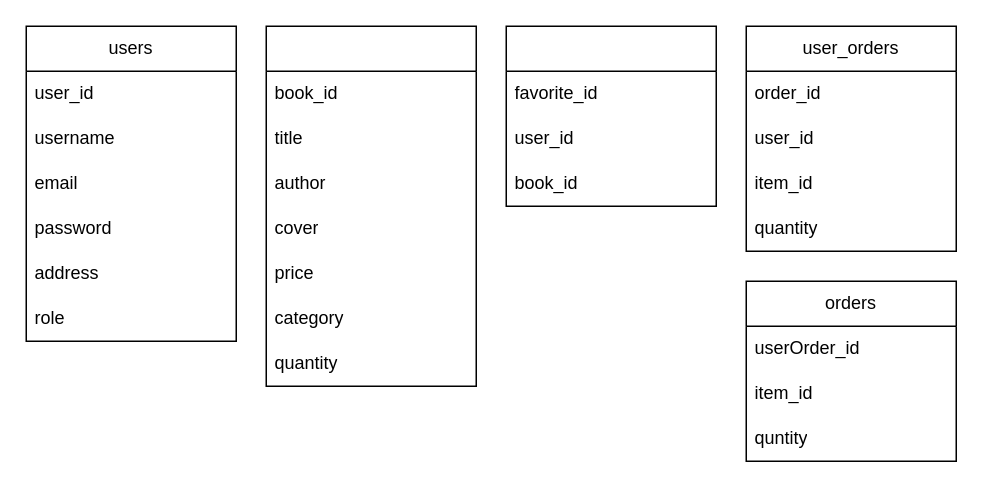
Image size: 983x488. Some labels were removed from this diagram. The box of each missing label's shape, as (x1, y1, x2, y2) in pixels:
books: (265, 25, 476, 386)
user_favorites: (505, 25, 716, 206)
